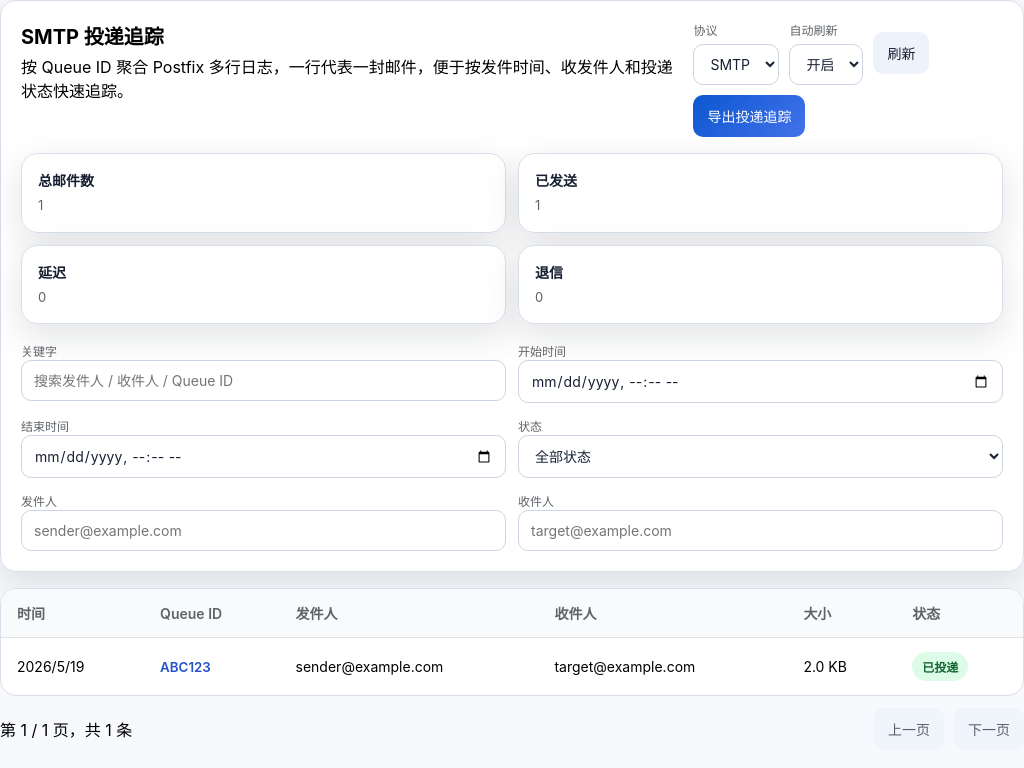
admin stage A pages › 日志页渲染投递追踪列表与详情展开
expect the heading "SMTP 投递追踪" is shown: met, box left=21, top=25, right=164, bottom=49
expect the field labelled "关键字" is shown: met, box left=21, top=360, right=506, bottom=401
Step 1. Click the button "ABC123" → (185, 667), box left=160, top=659, right=211, bottom=675
(page scrolled)
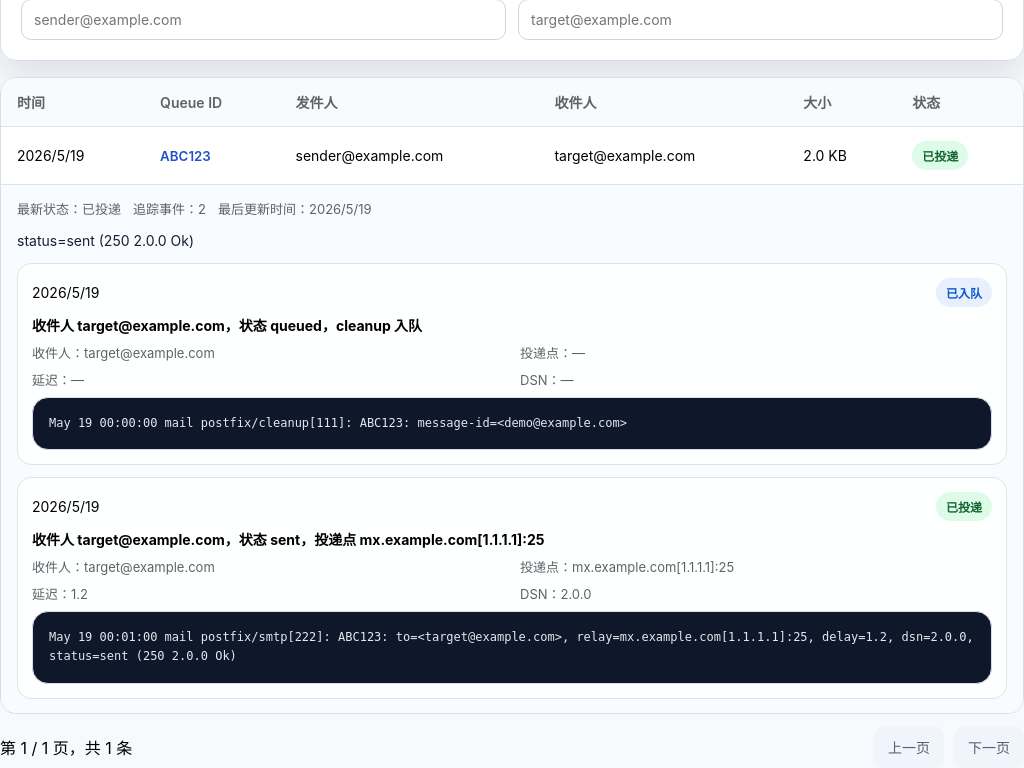
expect the text "投递点：mx.example.com[1.1.1.1]:25" is shown: met, box left=520, top=559, right=734, bottom=575
